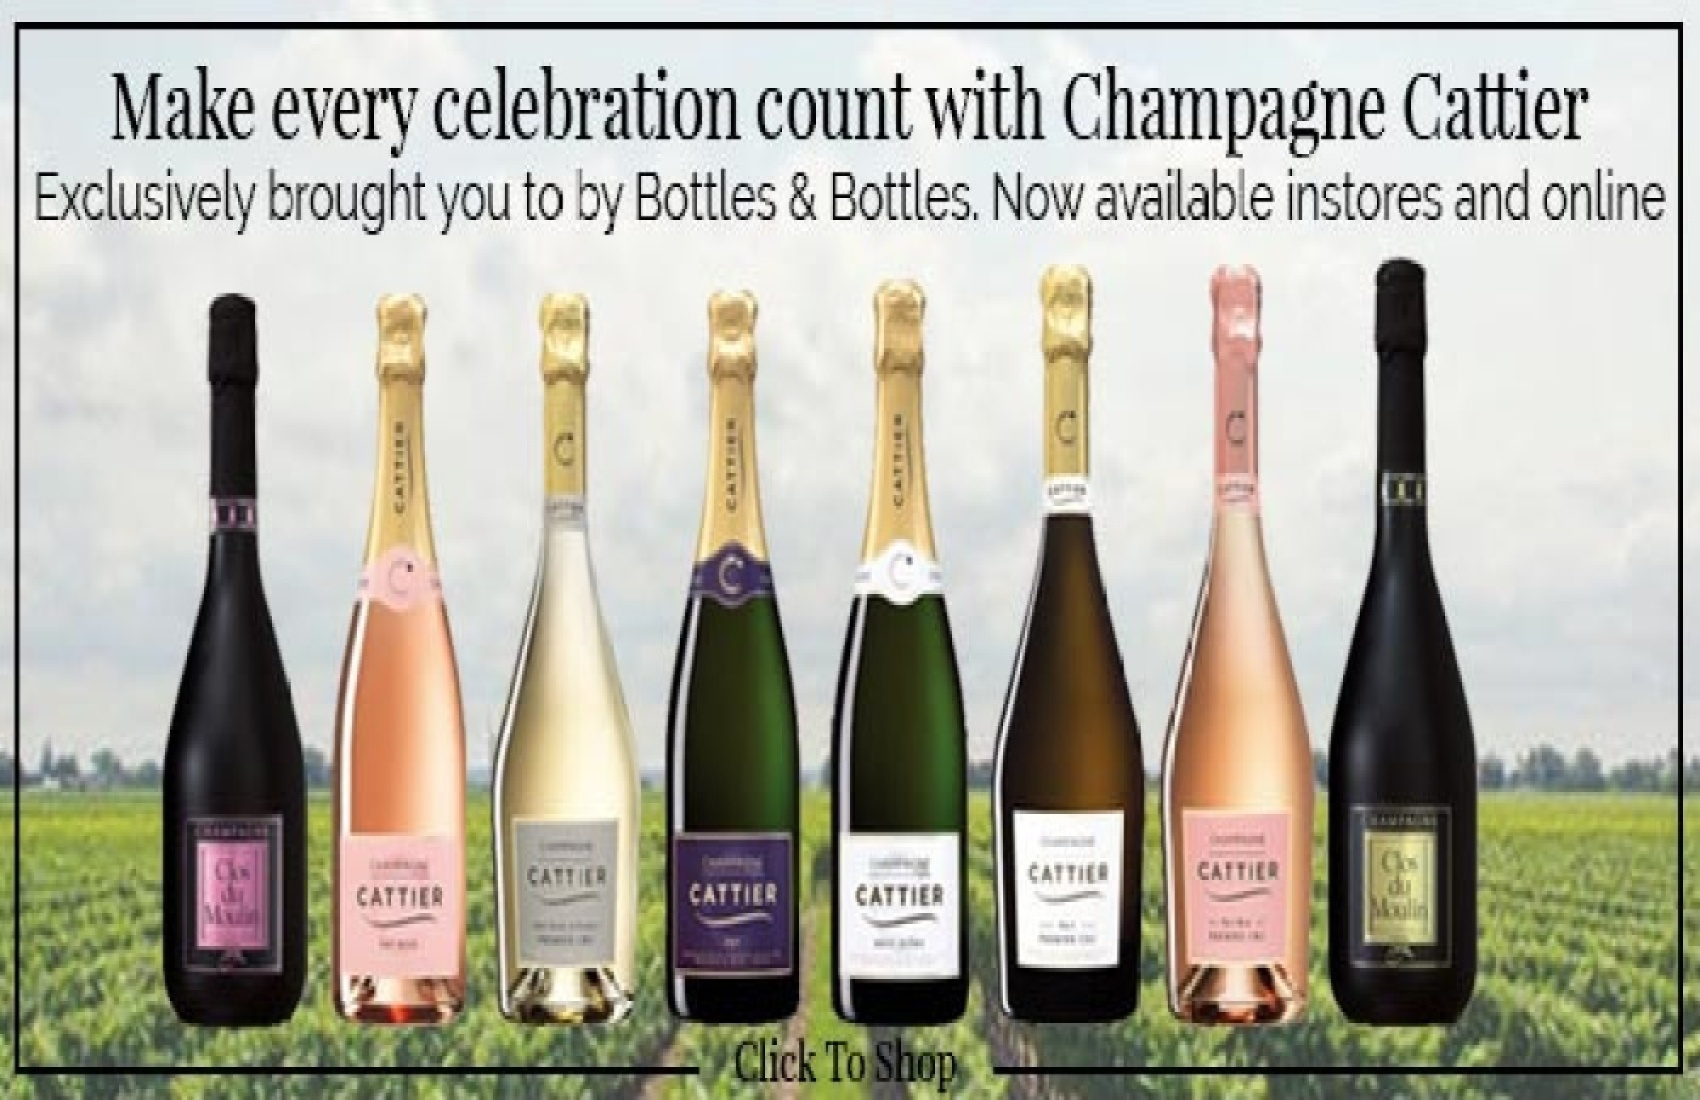wine: (156, 287, 309, 1023), (838, 287, 971, 1010), (1014, 292, 1147, 1015), (491, 282, 624, 1005), (664, 289, 797, 1012), (1166, 284, 1299, 1007), (332, 302, 465, 1024), (1338, 282, 1471, 1005)
